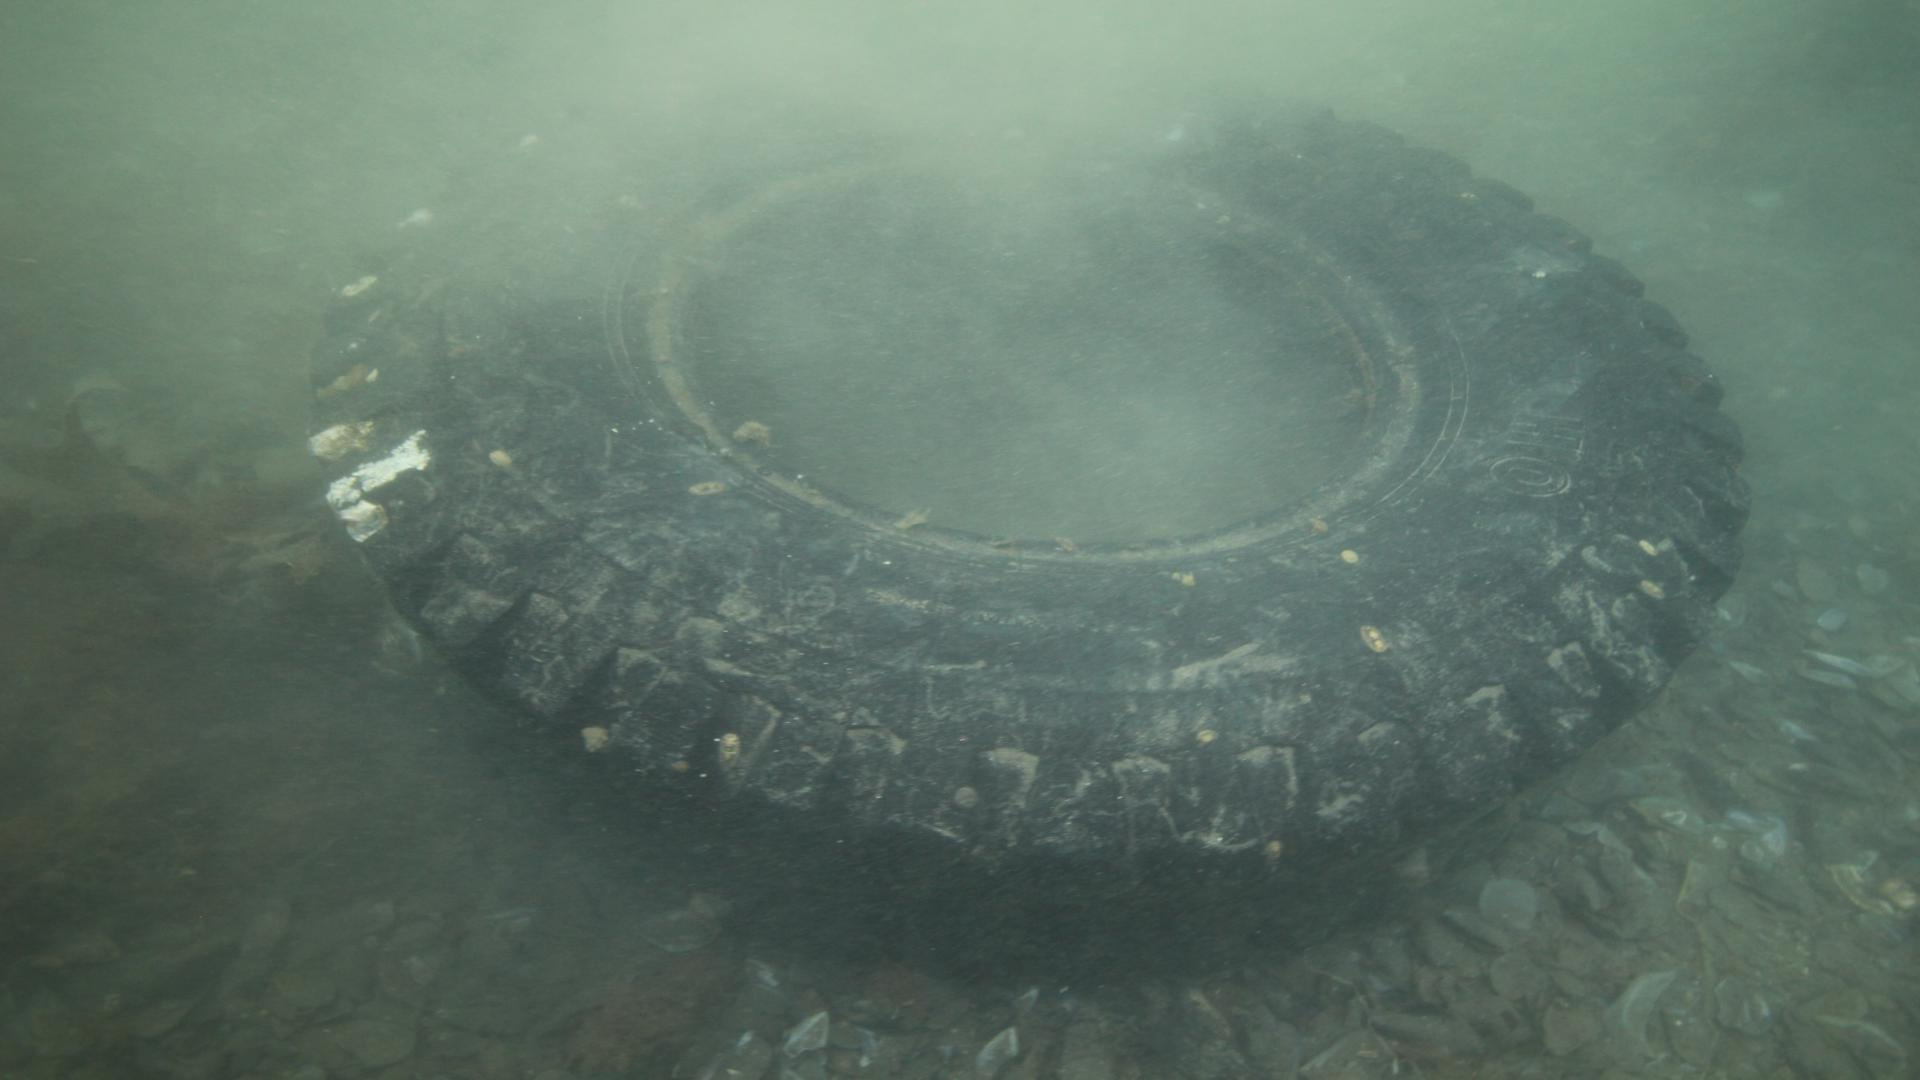tire: (305, 88, 1756, 986)
